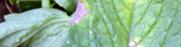Tomato Early blight leaf: (42, 0, 181, 47)
